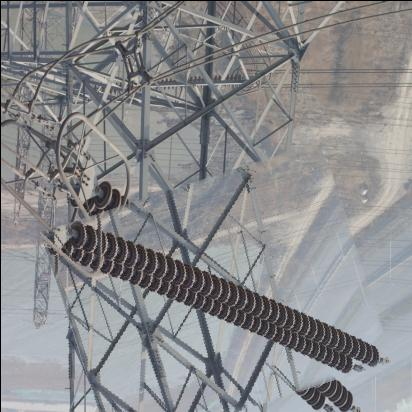insulator: (54, 161, 379, 412)
